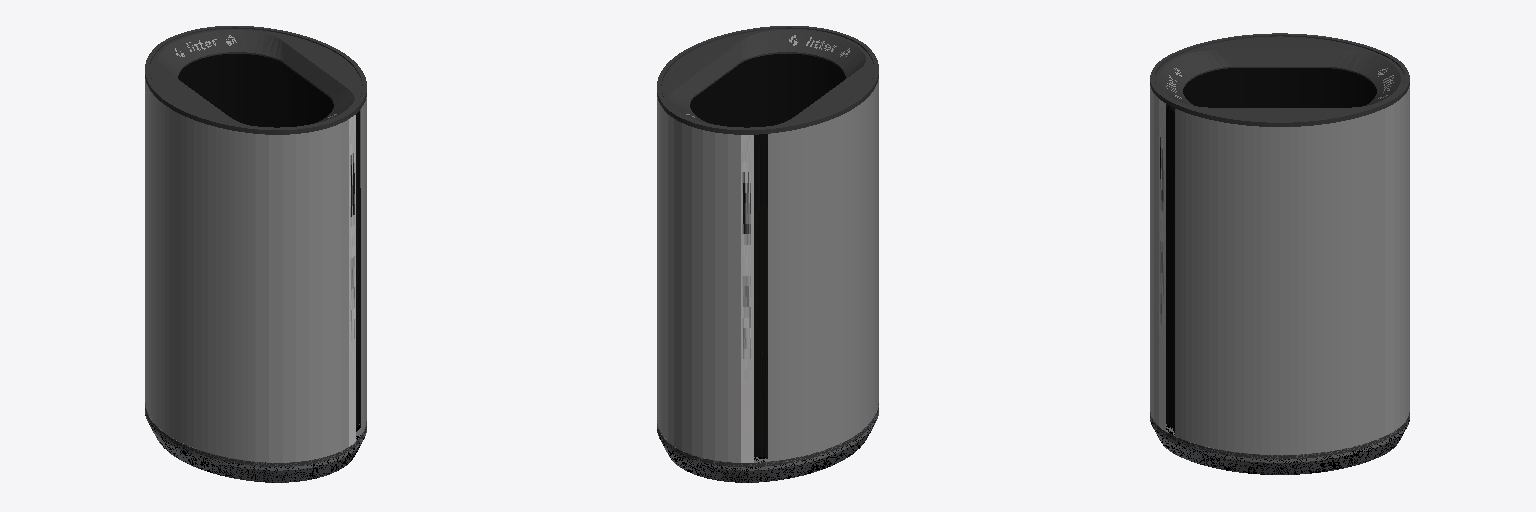
3 views of the same model, side by side, from view 1: azimuth 30°, elevation 25°; view 2: azimuth 150°, elevation 25°; view 3: azimuth 270°, elevation 25° (orthographic).
Parts seen in each view (by area): view 1: mesh2.001_mesh2-geometry, mesh27.002_mesh27-geometry, mesh24.002_mesh24-geometry, mesh3.002_mesh3-geometry, mesh21.001_mesh21-geometry, mesh21.002_mesh21-geometry, mesh23.002_mesh23-geometry, mesh1.001_mesh1-geometry, mesh3.001_mesh3-geometry, mesh26.001_mesh26-geometry, mesh25.001_mesh25-geometry, mesh22.002_mesh22-geometry; view 2: mesh2.001_mesh2-geometry, mesh27.001_mesh27-geometry, mesh25.001_mesh25-geometry, mesh21.001_mesh21-geometry, mesh3.002_mesh3-geometry, mesh3.001_mesh3-geometry, mesh22.001_mesh22-geometry, mesh21.002_mesh21-geometry, mesh1.001_mesh1-geometry, mesh25.002_mesh25-geometry, mesh26.001_mesh26-geometry, mesh23.001_mesh23-geometry; view 3: mesh1.001_mesh1-geometry, mesh27.001_mesh27-geometry, mesh27.002_mesh27-geometry, mesh3.001_mesh3-geometry, mesh21.002_mesh21-geometry, mesh24.001_mesh24-geometry, mesh25.002_mesh25-geometry, mesh3.002_mesh3-geometry, mesh21.001_mesh21-geometry, mesh22.002_mesh22-geometry, mesh23.001_mesh23-geometry, mesh26.001_mesh26-geometry (+1 smaller).
Part boxes in pixels (left/top/right/bottom): mesh2.001_mesh2-geometry: left=145, top=79, right=255, bottom=461; mesh27.002_mesh27-geometry: left=256, top=113, right=360, bottom=462; mesh24.002_mesh24-geometry: left=194, top=54, right=333, bottom=127; mesh3.002_mesh3-geometry: left=191, top=26, right=346, bottom=79; mesh21.001_mesh21-geometry: left=306, top=56, right=366, bottom=129; mesh21.002_mesh21-geometry: left=145, top=31, right=207, bottom=104; mesh23.002_mesh23-geometry: left=164, top=437, right=320, bottom=482; mesh1.001_mesh1-geometry: left=360, top=97, right=366, bottom=434; mesh3.001_mesh3-geometry: left=165, top=93, right=320, bottom=134; mesh26.001_mesh26-geometry: left=145, top=403, right=366, bottom=466; mesh25.001_mesh25-geometry: left=356, top=111, right=359, bottom=429; mesh22.002_mesh22-geometry: left=317, top=424, right=366, bottom=477; mesh2.001_mesh2-geometry: left=768, top=79, right=878, bottom=461; mesh27.001_mesh27-geometry: left=663, top=109, right=767, bottom=462; mesh25.001_mesh25-geometry: left=690, top=54, right=829, bottom=139; mesh21.001_mesh21-geometry: left=677, top=26, right=832, bottom=79; mesh3.002_mesh3-geometry: left=657, top=56, right=717, bottom=129; mesh3.001_mesh3-geometry: left=816, top=31, right=878, bottom=104; mesh22.001_mesh22-geometry: left=703, top=437, right=859, bottom=482; mesh21.002_mesh21-geometry: left=703, top=93, right=858, bottom=134; mesh1.001_mesh1-geometry: left=657, top=97, right=662, bottom=434; mesh25.002_mesh25-geometry: left=754, top=139, right=767, bottom=456; mesh26.001_mesh26-geometry: left=657, top=403, right=878, bottom=466; mesh23.001_mesh23-geometry: left=657, top=430, right=706, bottom=477; mesh1.001_mesh1-geometry: left=1175, top=109, right=1384, bottom=454; mesh27.001_mesh27-geometry: left=1385, top=86, right=1409, bottom=435; mesh27.002_mesh27-geometry: left=1150, top=86, right=1174, bottom=432; mesh3.001_mesh3-geometry: left=1150, top=33, right=1279, bottom=90; mesh21.002_mesh21-geometry: left=1280, top=33, right=1409, bottom=90; mesh24.001_mesh24-geometry: left=1166, top=68, right=1279, bottom=111; mesh25.002_mesh25-geometry: left=1280, top=68, right=1376, bottom=107; mesh3.002_mesh3-geometry: left=1280, top=78, right=1409, bottom=126; mesh21.001_mesh21-geometry: left=1150, top=78, right=1279, bottom=126; mesh22.002_mesh22-geometry: left=1150, top=418, right=1279, bottom=474; mesh23.001_mesh23-geometry: left=1280, top=418, right=1409, bottom=474; mesh26.001_mesh26-geometry: left=1150, top=412, right=1409, bottom=459.
Size of the model in its own units: 0.4101 by 0.7604 by 0.5035.
15 materials, 2 textured.